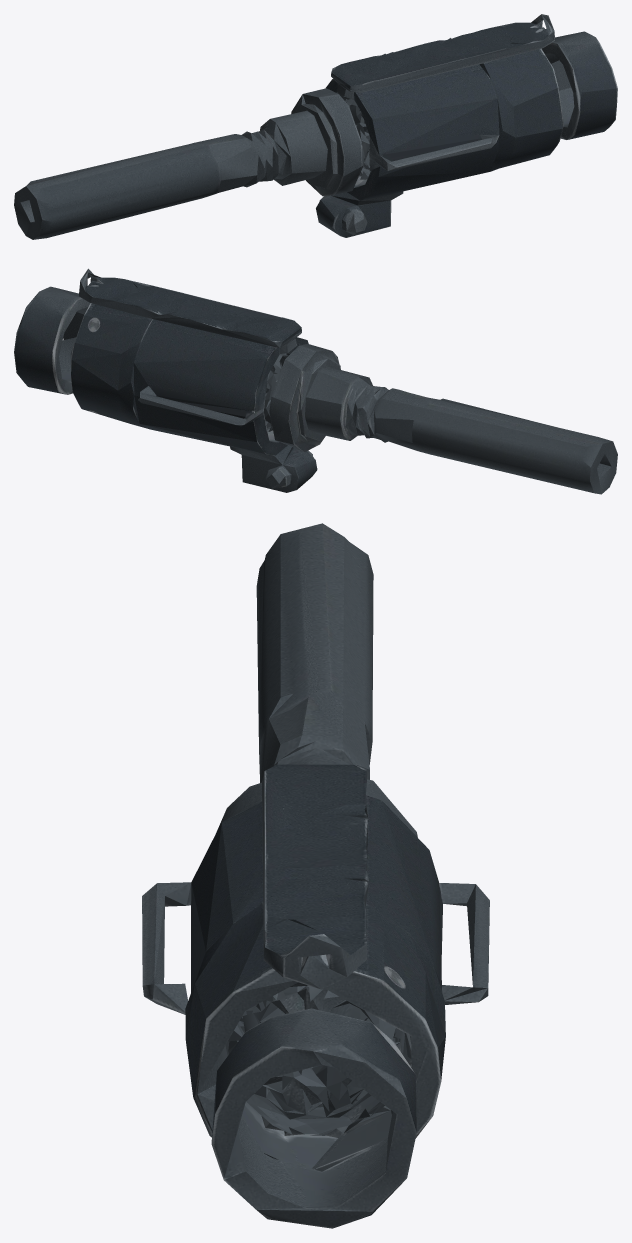
File: mod_quick_action.glb
The picture shows the model from 3 angles, top to bottom: view 1: azimuth 30°, elevation 25°; view 2: azimuth 150°, elevation 25°; view 3: azimuth 270°, elevation 25°; orthographic projection. The views are drawn at different scales.
Size of the model in its own units: 1.9 by 0.531 by 0.5049.
Materials: 1 (1 with a texture image).
